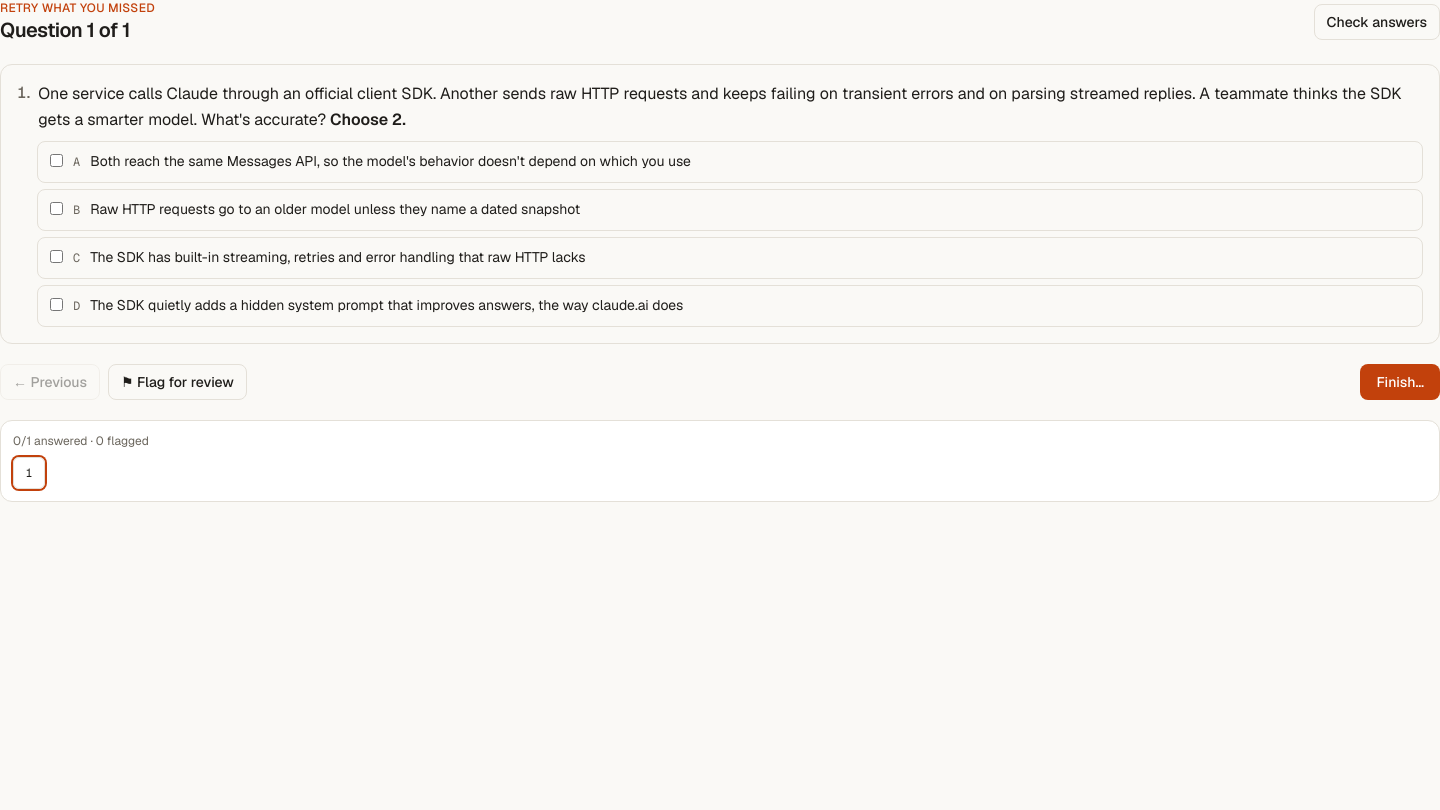
Scenario: MockExamPanel › follows a question that moved to another domain while you were mid-test
Click the button "Check answers": {"x": 1377, "y": 22} x1=1314 y1=4 x2=1439 y2=40
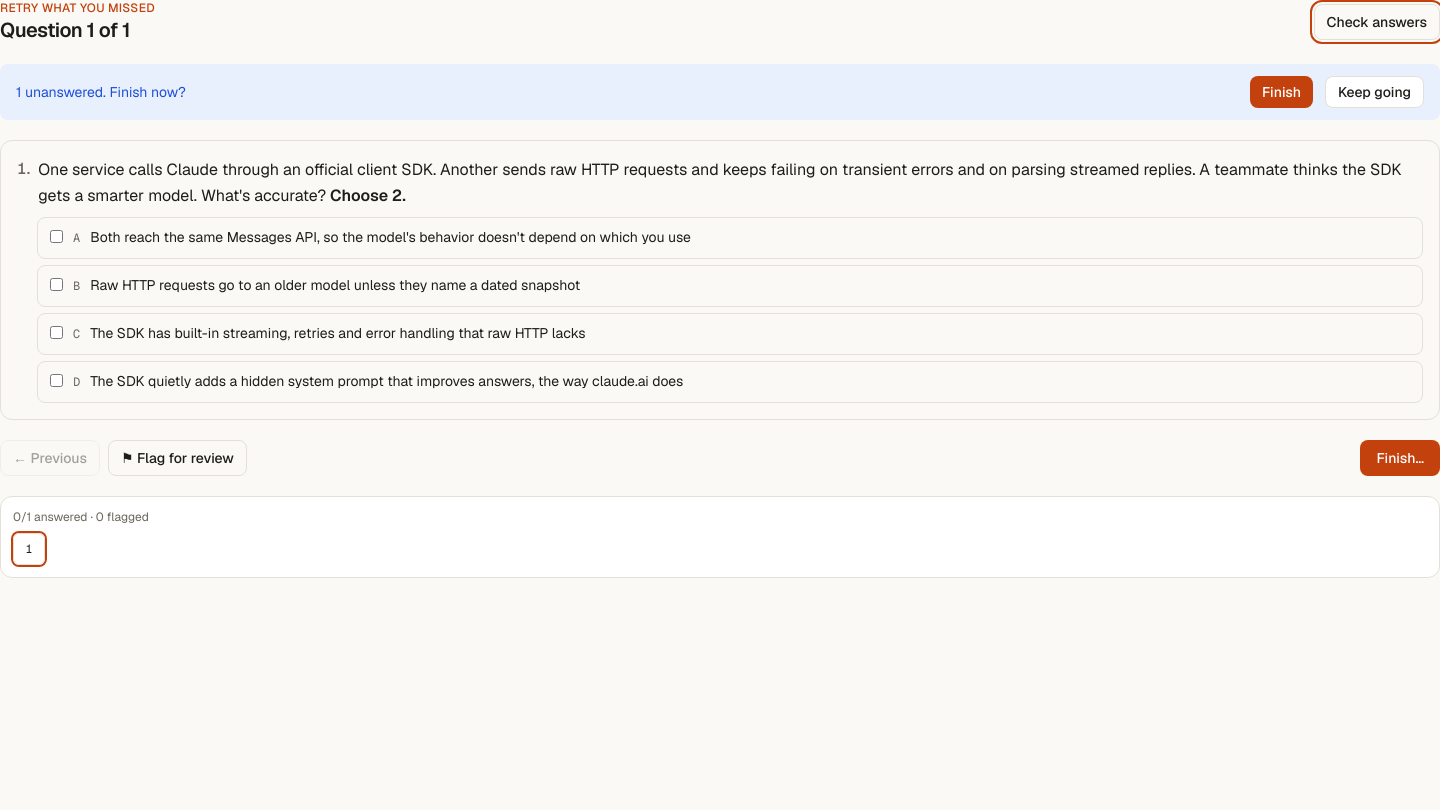
Click the button "Finish": {"x": 1282, "y": 92} x1=1250 y1=76 x2=1313 y2=108
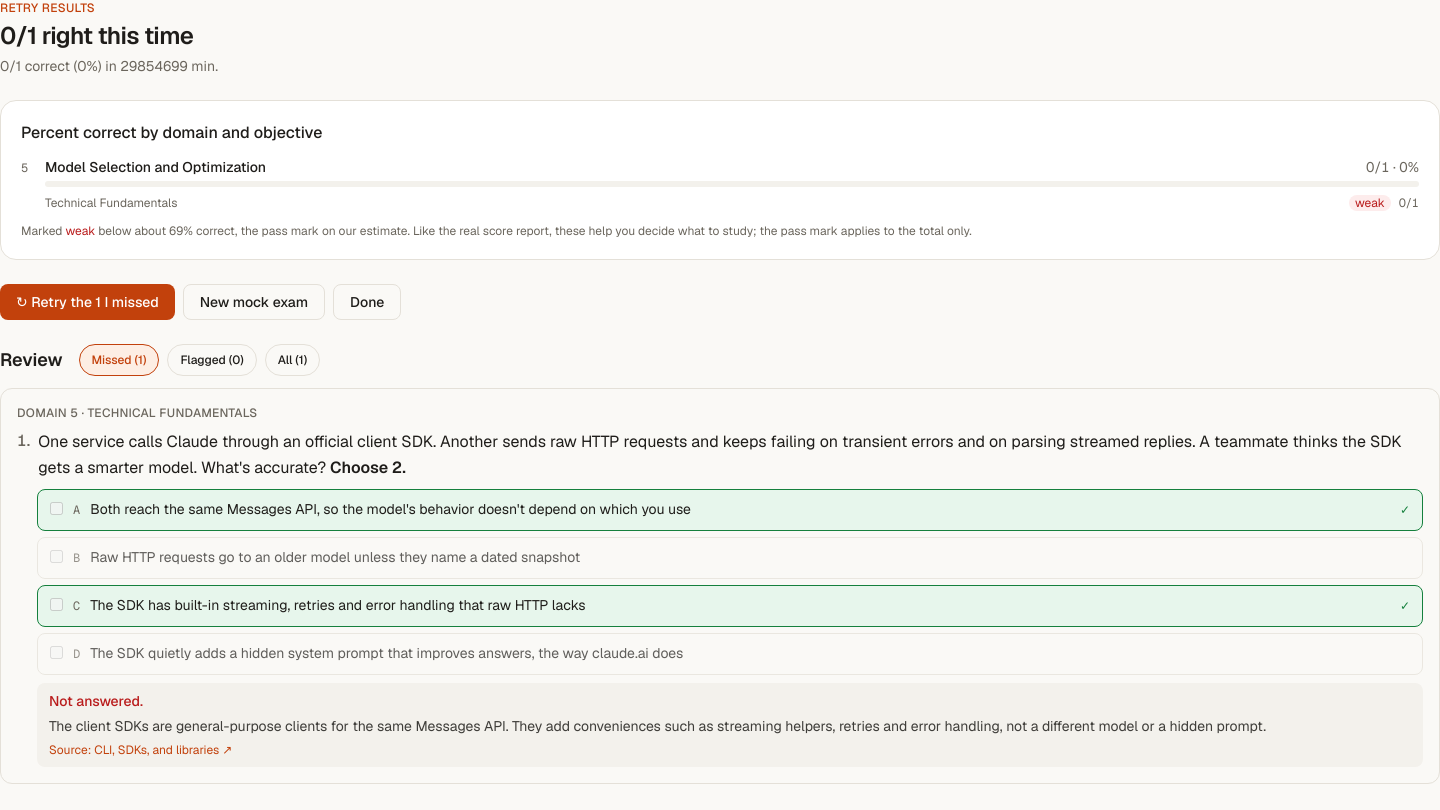
Expected: the list named "Model Selection and Optimization objectives" shows "Technical Fundamentals", x1=45 y1=195 x2=177 y2=211
